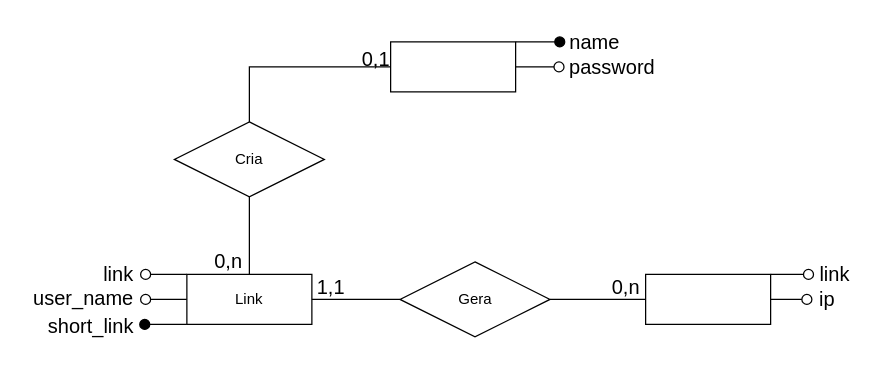
This 881x366 diagram has some shape labels left out. Here are the shapes that lost their labels. From the top down, the centre of each, then its label:
the point at 452,66: User
the point at 707,298: Access
